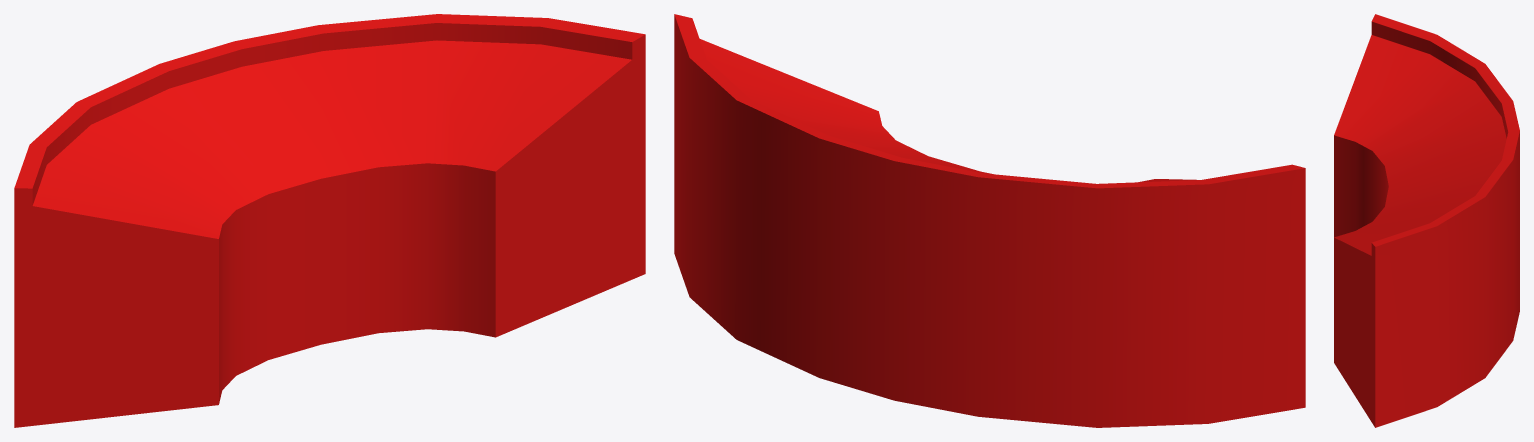
File: Table 1.fbx
3 renders of one model, left to right at view 1: azimuth 30°, elevation 25°; view 2: azimuth 150°, elevation 25°; view 3: azimuth 270°, elevation 25°, orthographic. The views are drawn at different scales.
Parts seen in each view (by area): view 1: Plane; view 2: Plane; view 3: Plane.
Boxes of the visible parts, <box> form: Plane: <box>14,14,645,427</box>; Plane: <box>674,14,1305,427</box>; Plane: <box>1334,14,1519,427</box>.
Size of the model in its own units: 573 by 208 by 193.
